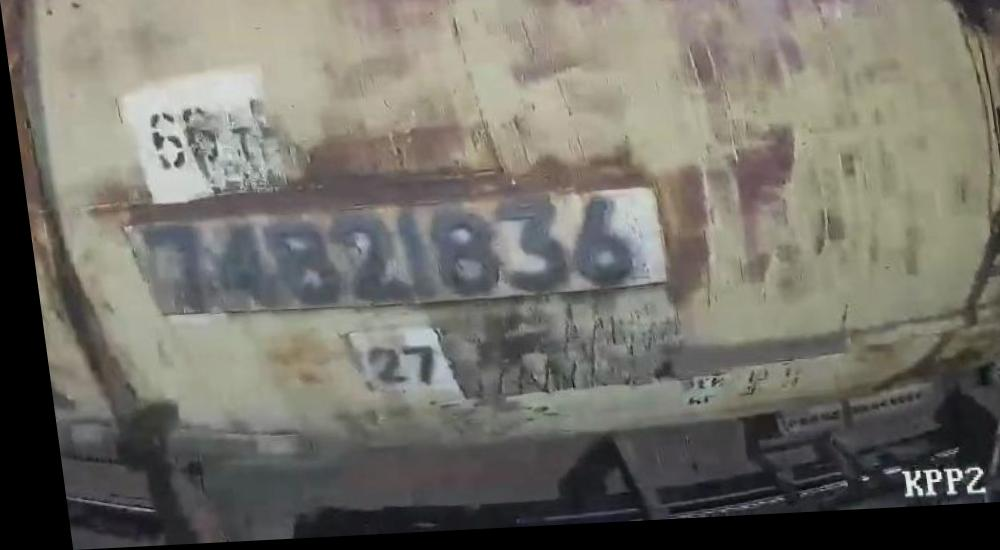Wagon-number: (126, 198, 638, 320)
